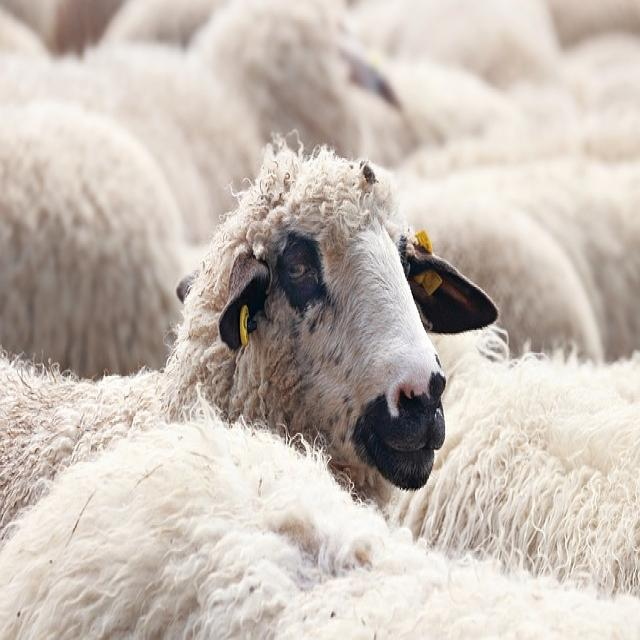goat: (0, 135, 451, 534), (0, 419, 640, 640), (0, 49, 233, 382)
